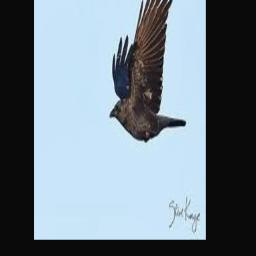Crow: (110, 0, 186, 141)
